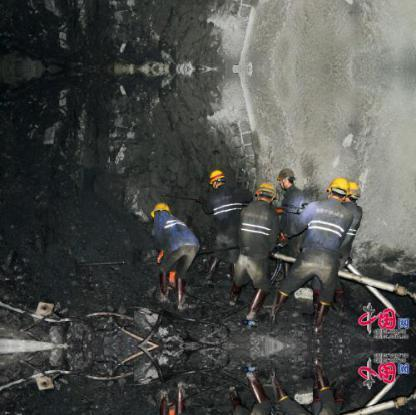helmet: (331, 176, 350, 196), (256, 181, 278, 198), (347, 181, 363, 202), (276, 165, 298, 180), (150, 202, 172, 217), (208, 169, 226, 186)
